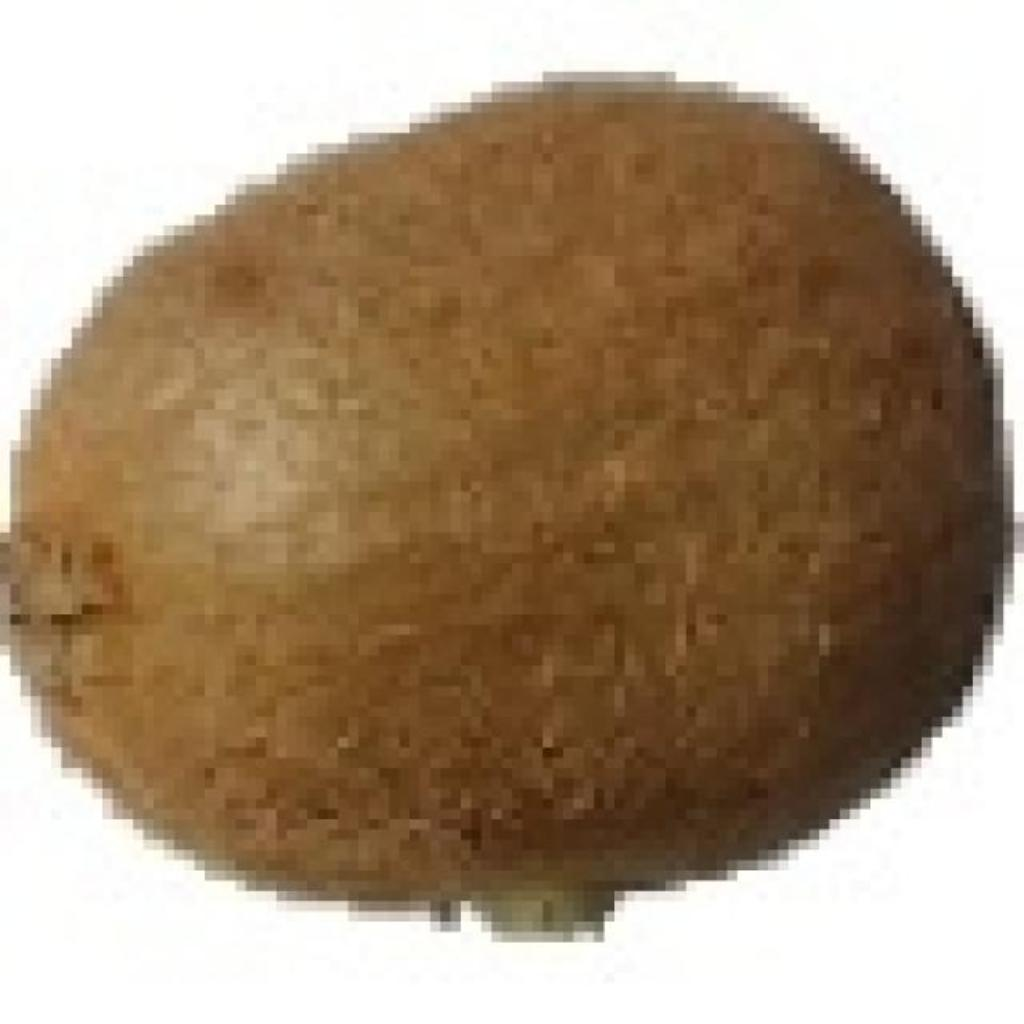kiwi: (10, 72, 983, 911)
